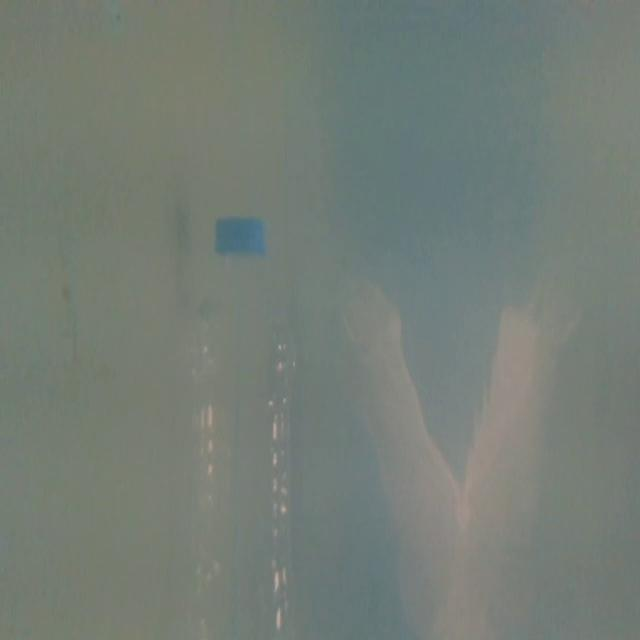plastic bags: (336, 235, 581, 640)
plastic bottle: (172, 206, 324, 640)
